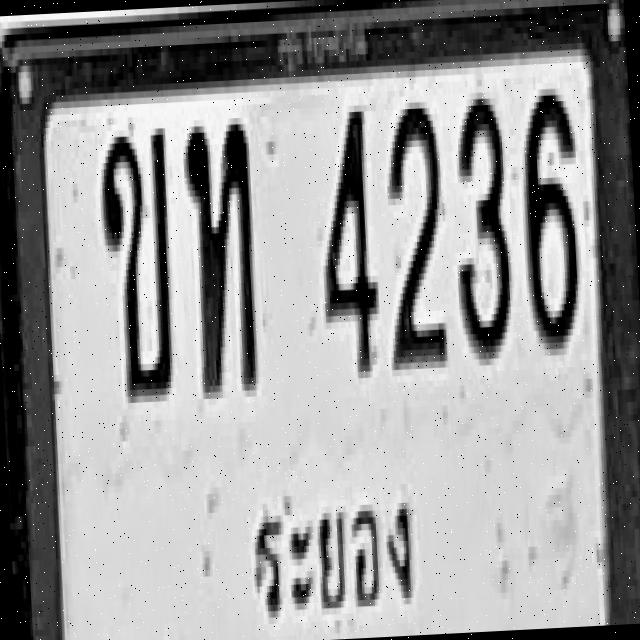11KhorKhai: (87, 96, 187, 410)
2: (376, 74, 466, 419)
3: (445, 70, 519, 410)
39PhorPan: (178, 97, 269, 406)
4: (298, 82, 392, 402)
6: (503, 62, 599, 388)
Rayong: (231, 469, 455, 640)
